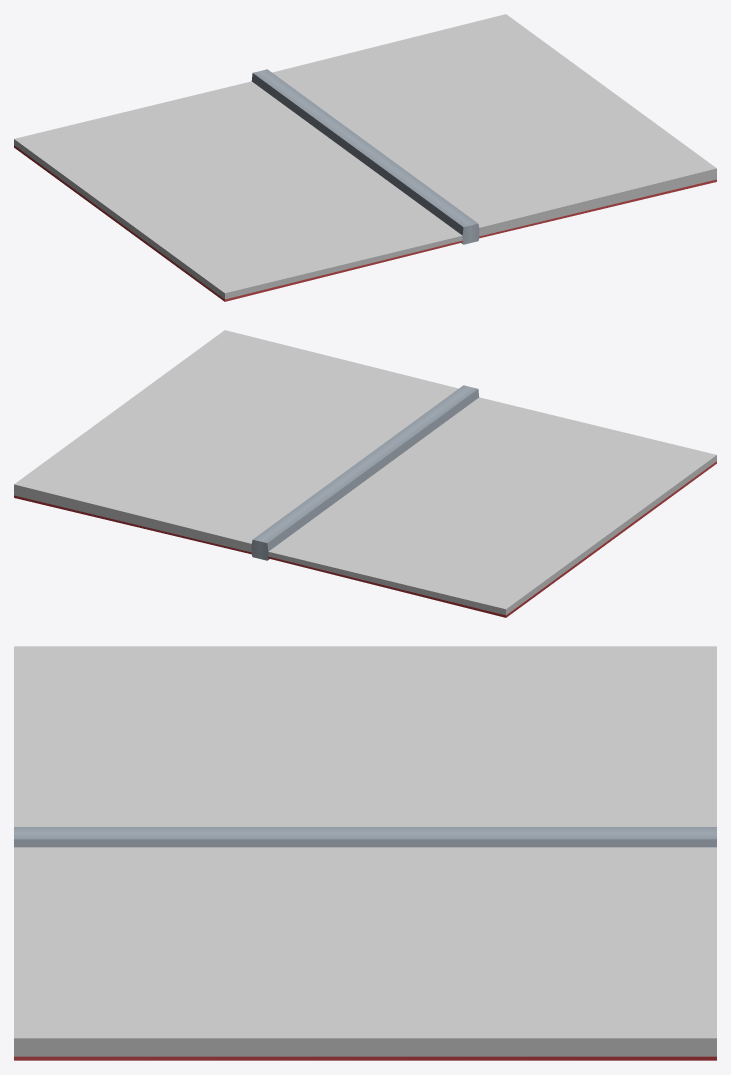
File: NoteBook2.fbx
3 views of the same model, one above another, from view 1: azimuth 30°, elevation 25°; view 2: azimuth 150°, elevation 25°; view 3: azimuth 270°, elevation 25° (orthographic). The views are drawn at different scales.
Visible parts, largest first — view 1: Plane.004; view 2: Plane.004; view 3: Plane.004.
Boxes of the visible parts, x1,y1,x2,y2 form: Plane.004: (14, 14, 716, 301); Plane.004: (14, 330, 716, 617); Plane.004: (14, 646, 716, 1060).
Size of the model in its own units: 80.82 by 2.76 by 60.
